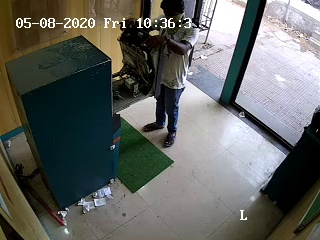open: (195, 3, 272, 111)
